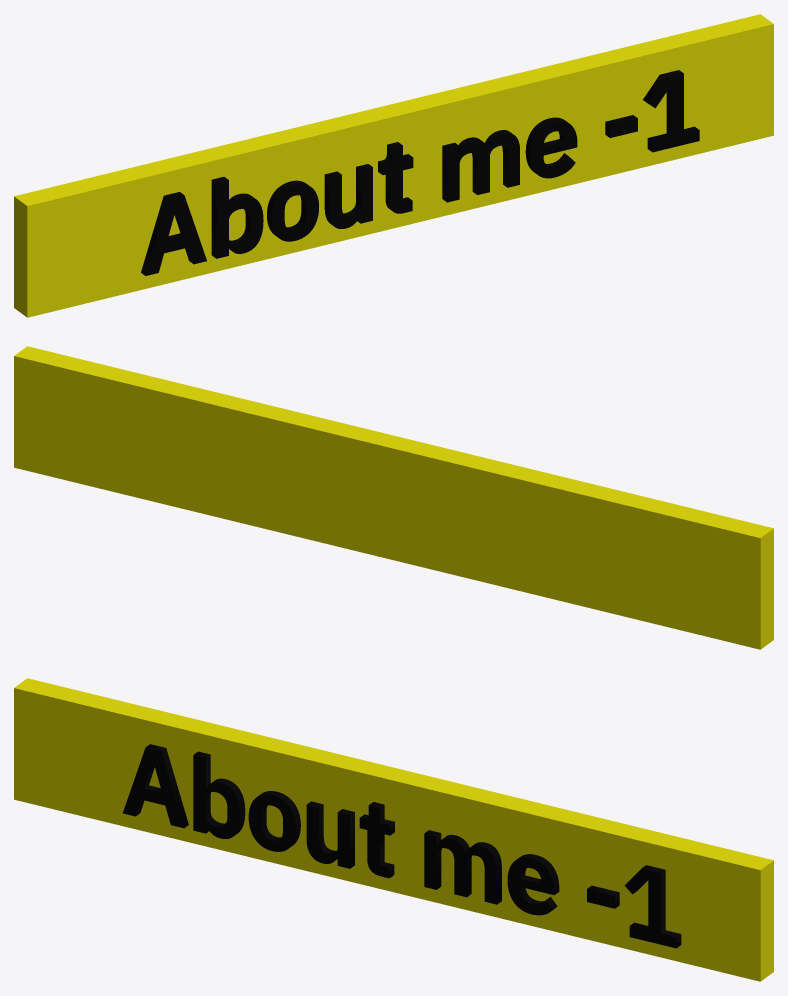
File: tag_1.glb
3 views of the same model, one above another, from view 1: azimuth 30°, elevation 25°; view 2: azimuth 150°, elevation 25°; view 3: azimuth 330°, elevation 25° (orthographic).
Visible parts, largest first — view 1: Plane.004, Text.008; view 2: Plane.004; view 3: Plane.004, Text.008.
Part boxes in pixels (<box>): Plane.004: <box>14,14,773,317</box>; Text.008: <box>141,70,699,275</box>; Plane.004: <box>14,346,773,649</box>; Plane.004: <box>14,678,773,981</box>; Text.008: <box>123,744,681,948</box>.
Bounding box in the file's own units: 0.7 × 0.1 × 0.0296.
